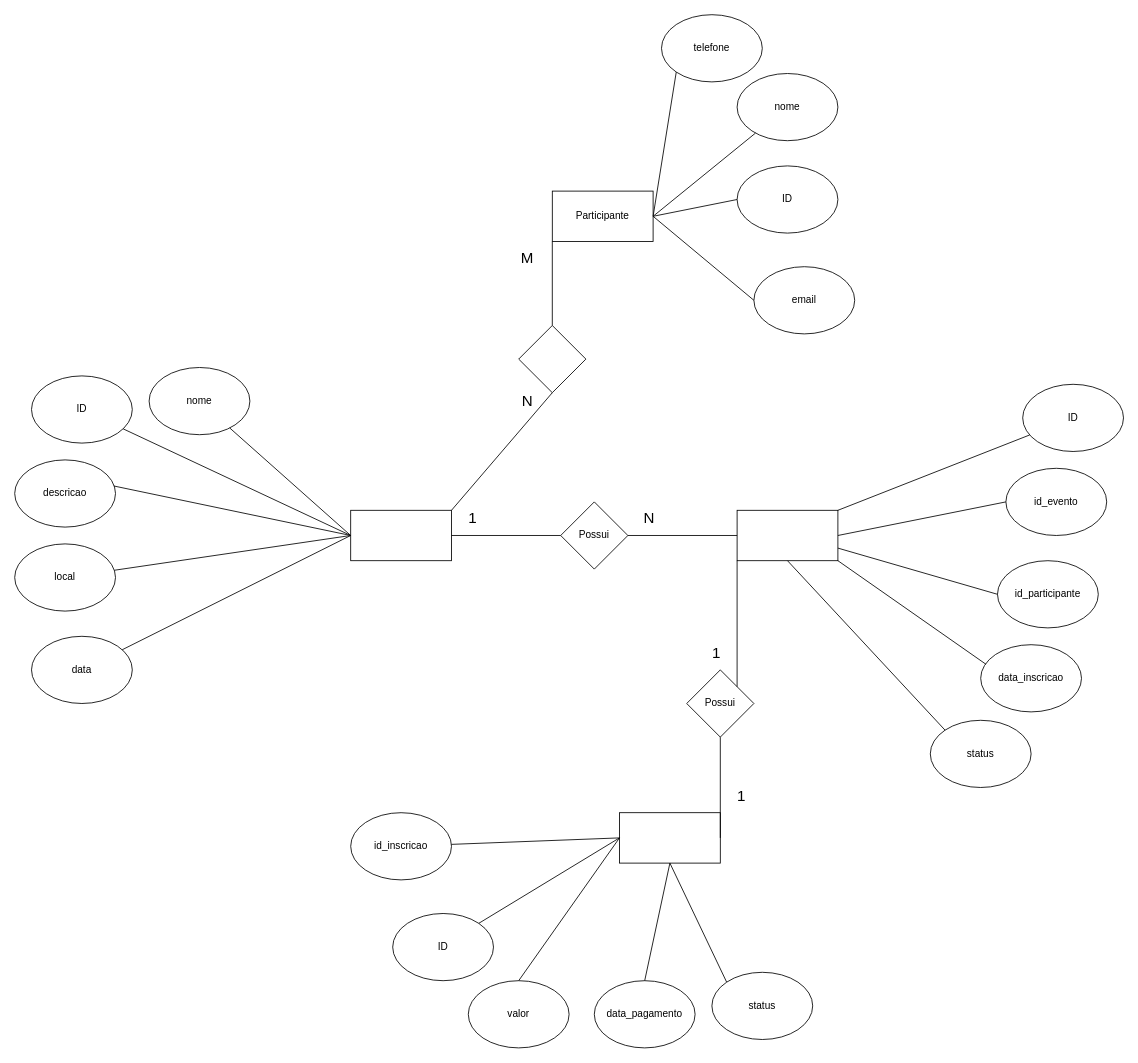
The diagram is 1138 pixels wide and 1063 high, and some of its shapes have lost their labels. The box of each missing label's shape, as (x1, y1, x2, y2) in pixels:
Evento: (350, 509, 452, 561)
Inscrição: (736, 509, 838, 561)
Pagamento: (619, 812, 720, 863)
Participa: (518, 325, 586, 393)
